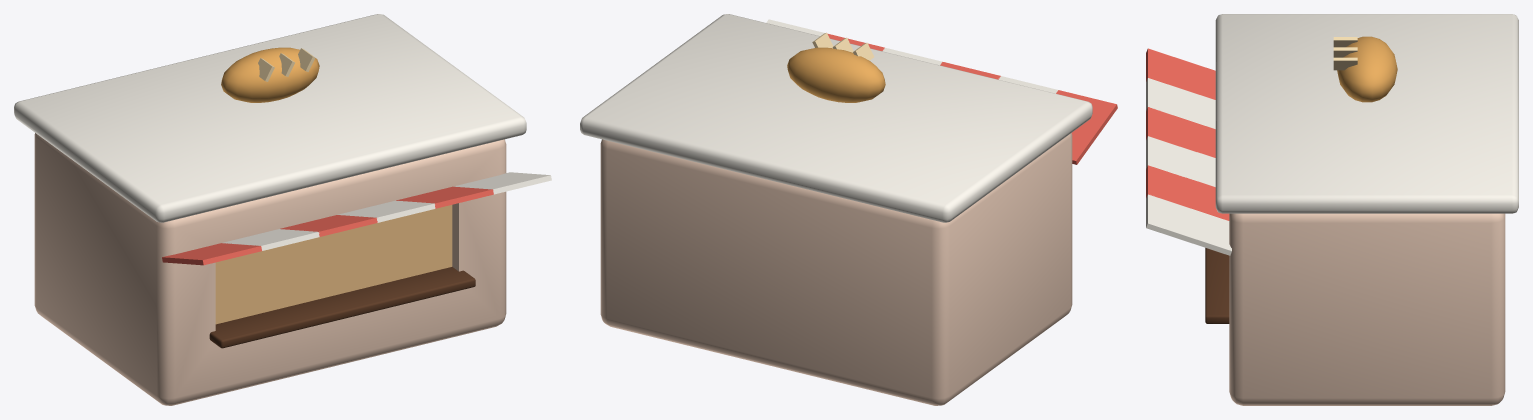
File: kiosk_bakery.gltf
The picture shows the model from 3 angles, left to right: view 1: azimuth 30°, elevation 25°; view 2: azimuth 150°, elevation 25°; view 3: azimuth 270°, elevation 25°; orthographic projection. The views are drawn at different scales.
Visible parts, largest first — view 1: kiosk_bakery_mesh, INT_counter_bakery; view 2: kiosk_bakery_mesh; view 3: kiosk_bakery_mesh, INT_counter_bakery.
Boxes of the visible parts, x1,y1,x2,y2 form: kiosk_bakery_mesh: [14, 14, 551, 405]; INT_counter_bakery: [209, 267, 475, 348]; kiosk_bakery_mesh: [580, 14, 1117, 405]; kiosk_bakery_mesh: [1146, 14, 1518, 405]; INT_counter_bakery: [1205, 248, 1229, 323].
Size of what is drawn, in the model's own units: 6.4 by 4.46 by 5.41.
